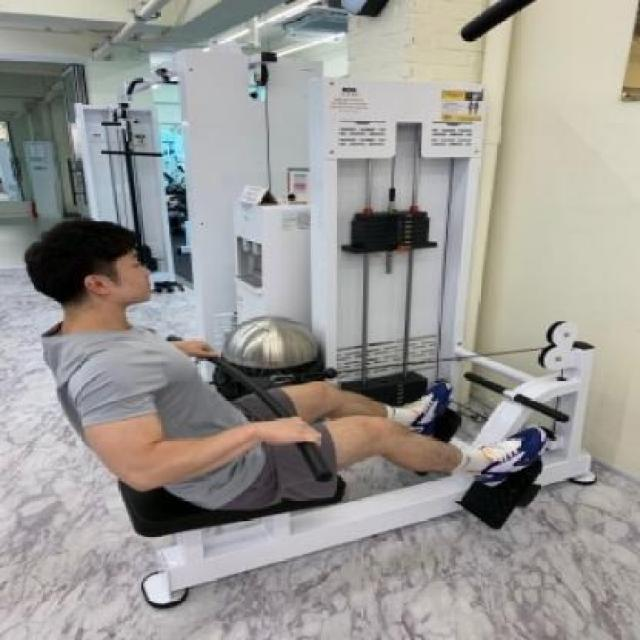Seated Cable Rows: (0, 11, 640, 578)
